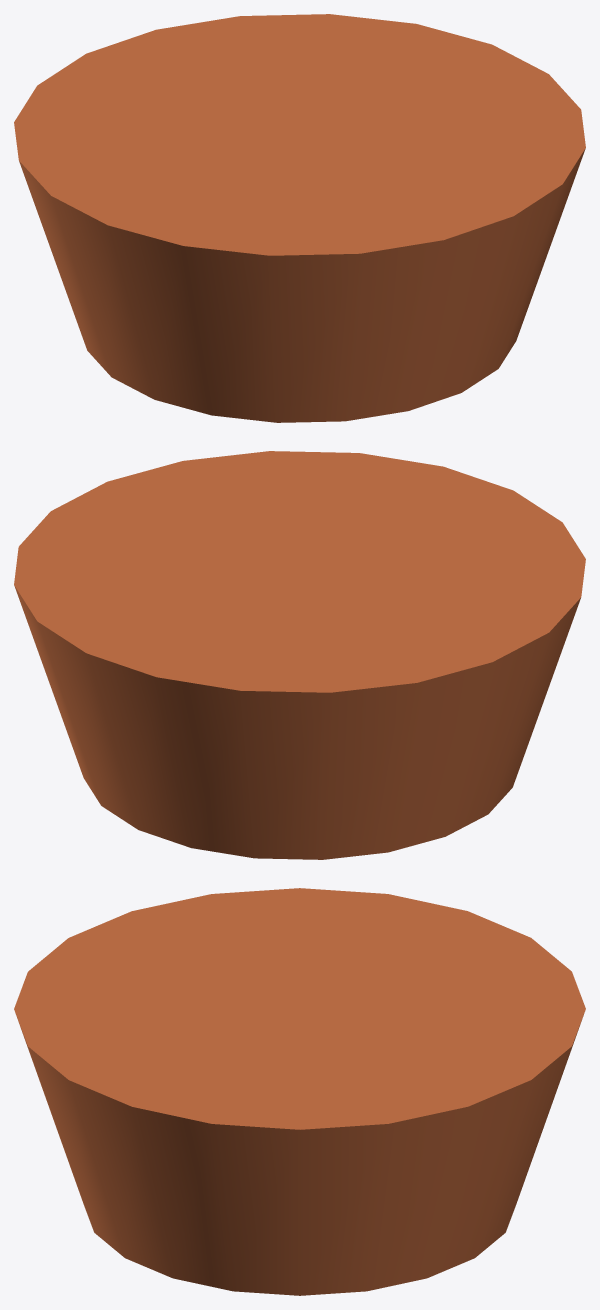
The model's file is Button_top.fbx.
3 renders of one model, top to bottom at view 1: azimuth 30°, elevation 25°; view 2: azimuth 150°, elevation 25°; view 3: azimuth 270°, elevation 25°, orthographic.
Parts seen in each view (by area): view 1: pCylinder2; view 2: pCylinder2; view 3: pCylinder2.
Part boxes in pixels (left/top/right/bottom): pCylinder2: left=14, top=14, right=585, bottom=422; pCylinder2: left=14, top=451, right=585, bottom=859; pCylinder2: left=14, top=888, right=585, bottom=1295.
Bounding box in the file's own units: 1.17 × 0.4403 × 1.17.
